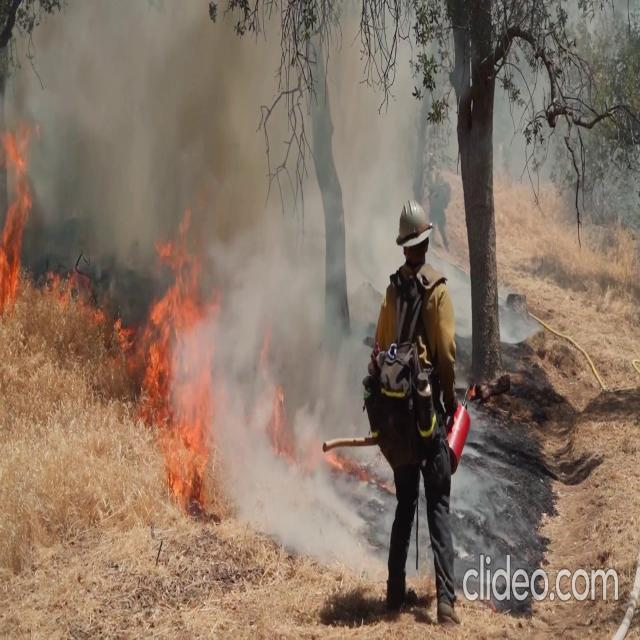Fire: (29, 6, 391, 528), (131, 202, 219, 506), (0, 112, 105, 322), (0, 121, 34, 312), (35, 260, 110, 326)
Smoke: (28, 7, 392, 532), (6, 2, 254, 264)
